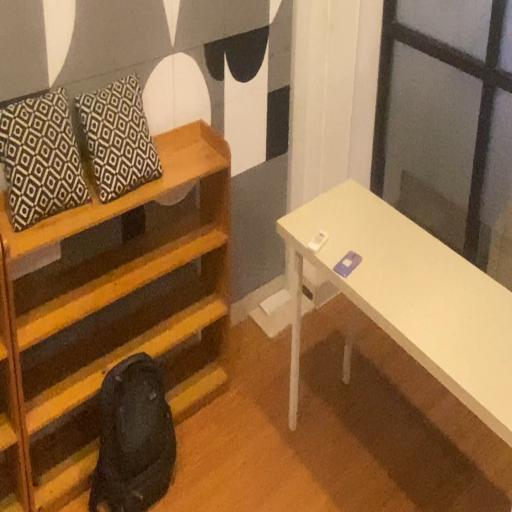bantal: (0, 80, 96, 236), (75, 75, 171, 201)
hp: (333, 249, 364, 281)
lemari: (0, 101, 237, 512)
meja: (273, 160, 512, 512)
remote AC: (305, 224, 329, 262)
tas ransel: (86, 349, 181, 512)
